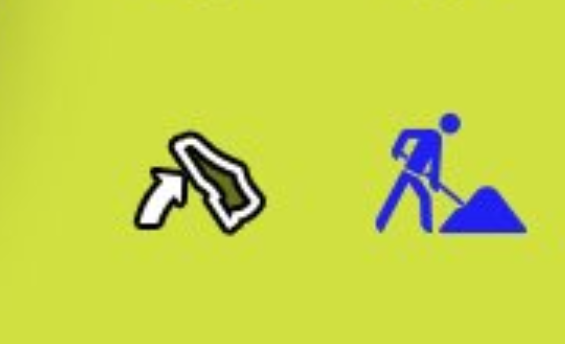ACCELERATOR: (123, 114, 289, 254)
CONSTRUCTION: (363, 103, 551, 268)
